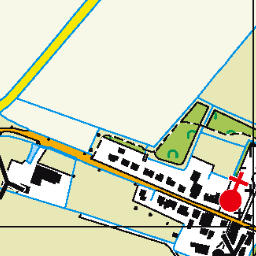church: (217, 170, 250, 216)
